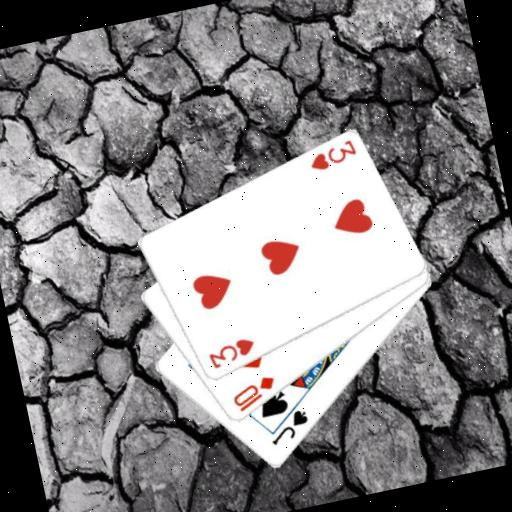10D: (226, 372, 281, 415)
3H: (202, 333, 259, 372), (303, 136, 360, 175)
JS: (262, 404, 314, 448)
